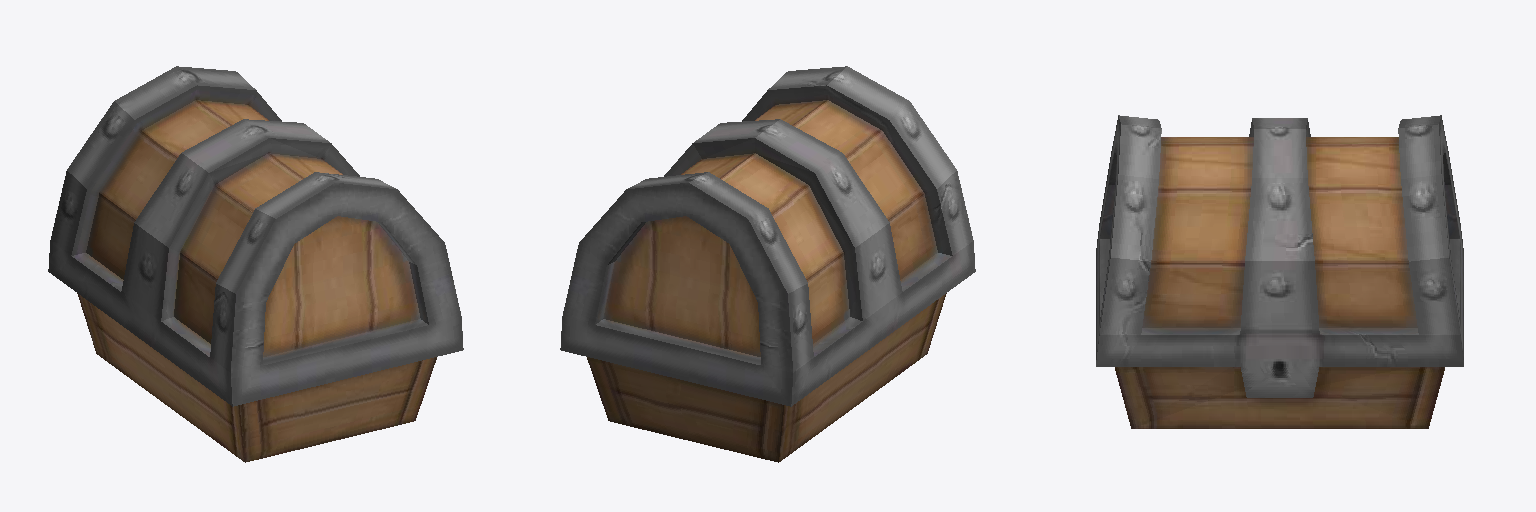
The picture shows the model from 3 angles: view 1: azimuth 30°, elevation 25°; view 2: azimuth 150°, elevation 25°; view 3: azimuth 270°, elevation 25°; orthographic projection.
Size of the model in its own units: 1.56 by 1.7 by 2.16.
1 materials, 1 textured.